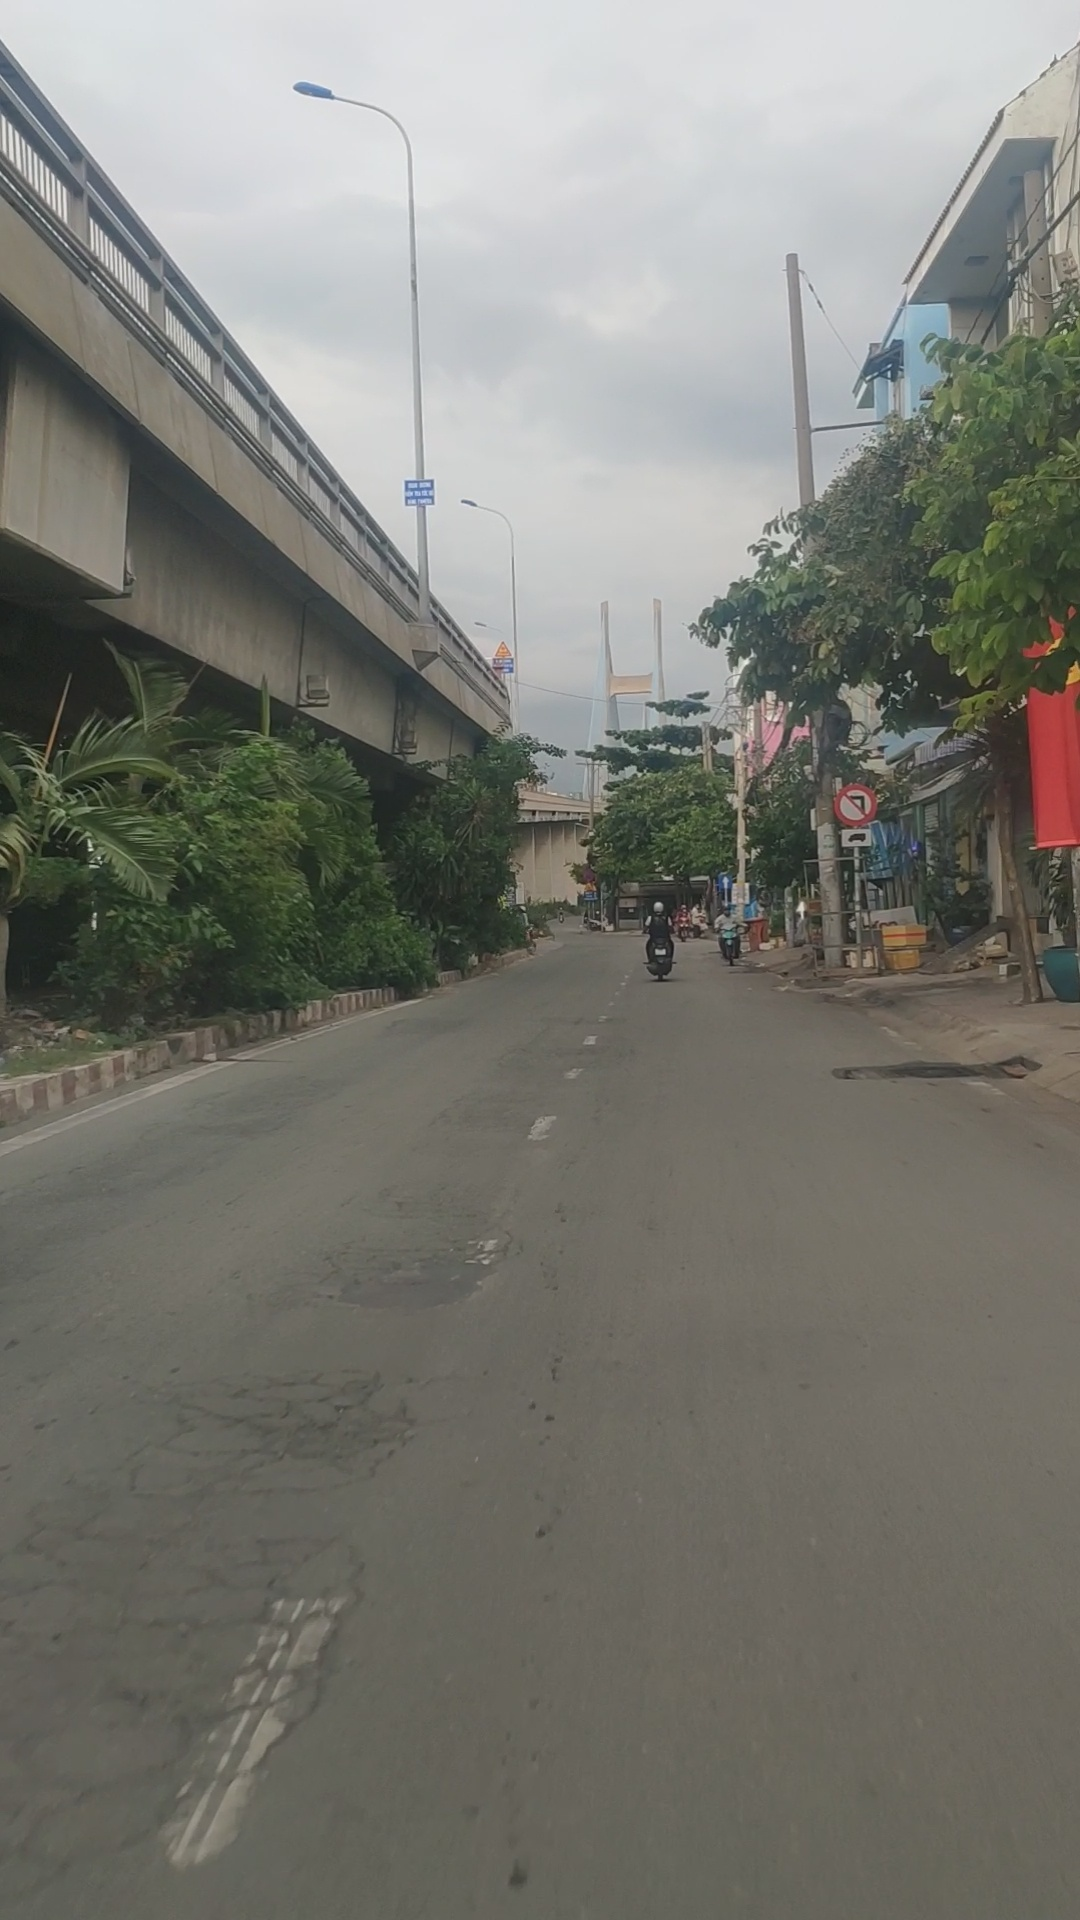hole: (1, 1513, 376, 1865), (104, 1356, 431, 1495), (297, 1236, 522, 1316), (190, 1065, 353, 1138), (334, 1172, 527, 1226), (495, 1036, 625, 1073), (381, 1010, 477, 1042)
